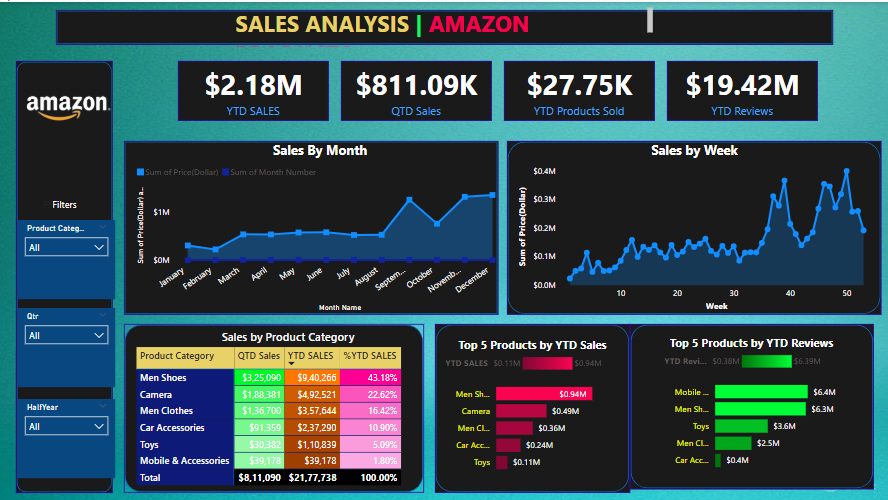

This screenshot's page, from the dashboard's own definition file:
{"tool":"powerbi","page":{"name":"Page 1","canvas":[1280,720],"ordinal":0},"visuals":[{"type":"card","fields":{"Values":["Amazon_Data.YTD SALES"]},"box":[257,85.7,216.7,85.7],"z":0,"group":"g1"},{"type":"shape","box":[80.6,11.8,1118.7,50.4],"z":0},{"type":"card","fields":{"Values":["Amazon_Data.QTD Sales"]},"box":[491.6,85.7,216.7,85.7],"z":1000,"group":"g1"},{"type":"textbox","box":[334.3,3.4,611.4,65.5],"z":1000},{"type":"card","fields":{"Values":["Amazon_Data.YTD Products Sold"]},"box":[726.2,85.7,216.7,85.7],"z":2000,"group":"g1"},{"type":"shape","box":[23.5,85.7,139.4,621.5],"z":2000},{"type":"card","fields":{"Values":["Amazon_Data.YTD Reviews"]},"box":[960.8,86.3,216.7,85.7],"z":3000,"group":"g1"},{"type":"group","id":"g1","title":"Group 1","box":[257,85.7,920.5,86.2],"z":3000},{"type":"shape","box":[178.1,199.9,539.2,250.3],"z":4000},{"type":"areaChart","title":"Sales By Month","fields":{"Category":["Table.Month Name"],"Y":["Sum(Amazon_Data.Price(Dollar))","Sum(Table.Month Number)"]},"box":[191.5,200.2,538.6,250.6],"z":5000},{"type":"shape","box":[730.7,199.9,539.2,250.3],"z":6000},{"type":"areaChart","title":"Sales by Week","fields":{"Category":["Table.Week"],"Y":["Sum(Amazon_Data.Price(Dollar))"]},"box":[741.6,200.2,517,250.6],"z":7000},{"type":"shape","box":[178.6,463.7,432,243.4],"z":8000},{"type":"pivotTable","title":"Sales by Product Category","fields":{"Rows":["Amazon_Data.Product Category"],"Values":["Amazon_Data.QTD Sales","Amazon_Data.YTD SALES1","Amazon_Data.YTD SALES"]},"box":[191.5,470.9,446.4,230.4],"z":9000},{"type":"shape","box":[907.2,463.7,351.4,237.6],"z":10000},{"type":"shape","box":[626.4,463.7,280.8,243.4],"z":11000},{"type":"clusteredBarChart","title":"Top 5 Products by YTD Sales","fields":{"Category":["Amazon_Data.Product Category"],"Y":["Amazon_Data.YTD SALES"]},"box":[636.5,482.4,260.6,205.9],"z":12000},{"type":"clusteredBarChart","title":"Top 5 Products by YTD Reviews","fields":{"Category":["Amazon_Data.Product Category"],"Y":["Amazon_Data.YTD Reviews"]},"box":[951.8,479.5,260.6,205.9],"z":13000},{"type":"slicer","fields":{"Values":["Amazon_Data.Product Category"]},"box":[25.9,313.9,139.7,113.8],"z":13001},{"type":"slicer","fields":{"Values":["Table.Qtr"]},"box":[25.9,571.7,139.7,113.8],"z":13002},{"type":"image","box":[0,59,191.5,187.2],"z":13003},{"type":"textbox","box":[57.6,277.9,70.6,47.5],"z":13004},{"type":"slicer","fields":{"Values":["Table.Qtr"]},"box":[25.9,440.6,139.7,113.8],"z":13005}]}

Visuals, with their boxes in screenshot pixels (x1, y1, x2, y2), scaled from the page's 1280x720 canvas onto the 888x500 screenshot:
card - Amazon_Data.YTD SALES: 178,60,329,119
shape: 56,8,832,43
card - Amazon_Data.QTD Sales: 341,60,491,119
textbox: 232,2,656,48
card - Amazon_Data.YTD Products Sold: 504,60,654,119
shape: 16,60,113,491
card - Amazon_Data.YTD Reviews: 667,60,817,119
"Group 1" group: 178,60,817,119
shape: 124,139,498,313
"Sales By Month" areaChart: 133,139,507,313
shape: 507,139,881,313
"Sales by Week" areaChart: 514,139,873,313
shape: 124,322,424,491
"Sales by Product Category" pivotTable: 133,327,443,487
shape: 629,322,873,487
shape: 435,322,629,491
"Top 5 Products by YTD Sales" clusteredBarChart: 442,335,622,478
"Top 5 Products by YTD Reviews" clusteredBarChart: 660,333,841,476
slicer - Amazon_Data.Product Category: 18,218,115,297
slicer - Table.Qtr: 18,397,115,476
image: 0,41,133,171
textbox: 40,193,89,226
slicer - Table.Qtr: 18,306,115,385
